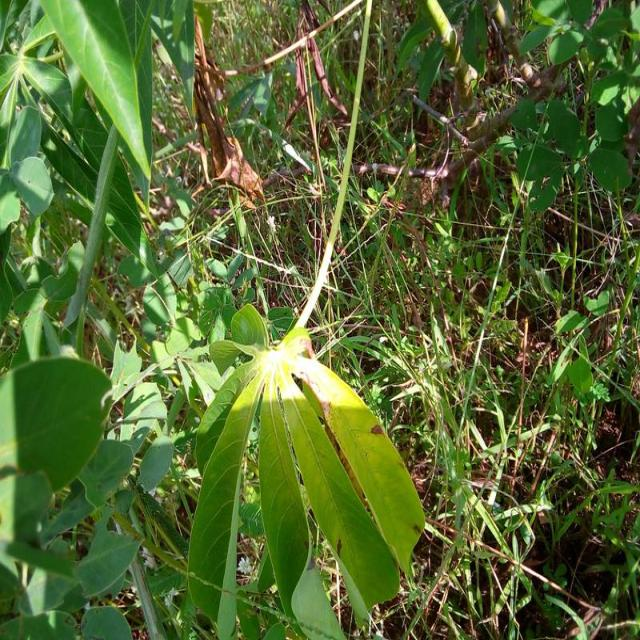cassava leaf: (186, 303, 426, 638)
